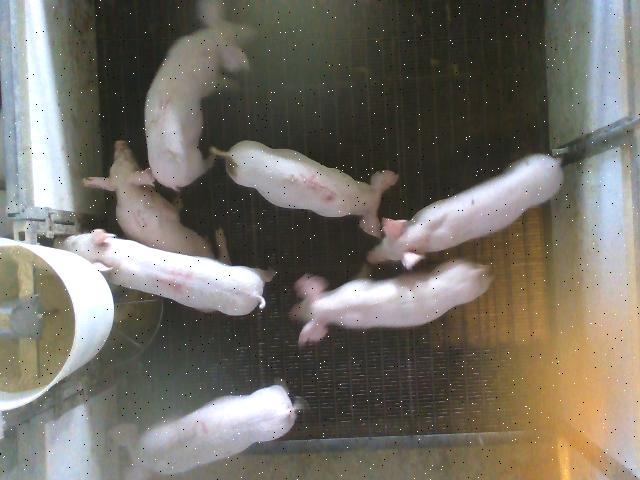pig-3: (111, 385, 301, 479)
pig-4: (64, 229, 275, 314)
pig-5: (211, 141, 398, 237)
